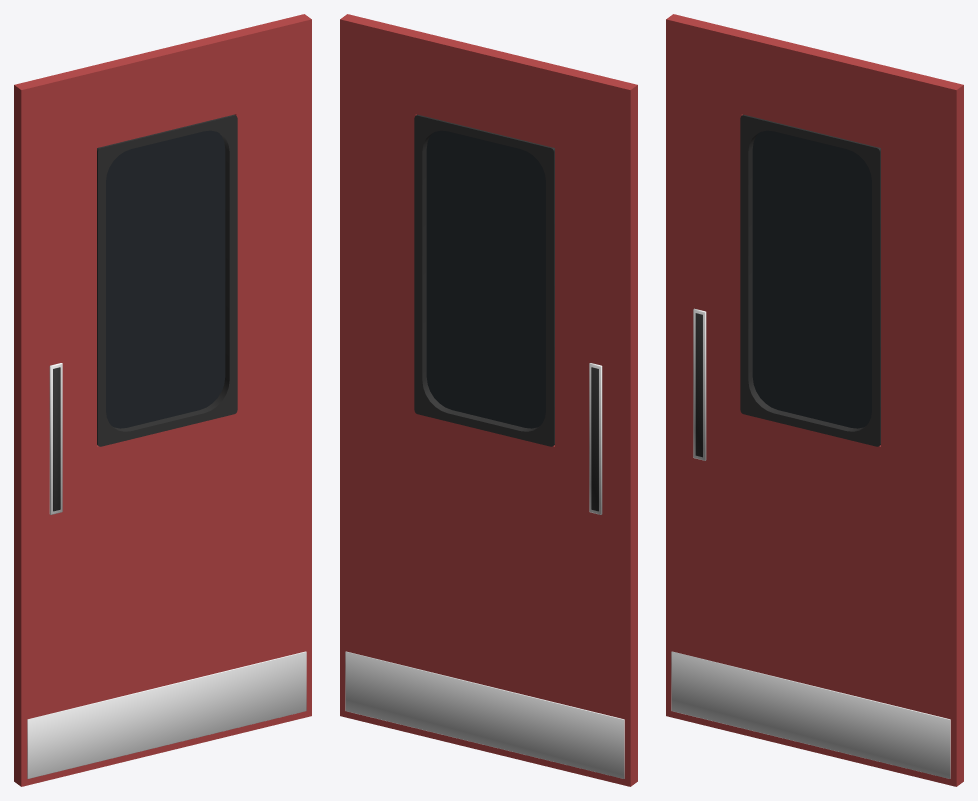
File: Train_Door.fbx
The picture shows the model from 3 angles, left to right: view 1: azimuth 30°, elevation 25°; view 2: azimuth 150°, elevation 25°; view 3: azimuth 330°, elevation 25°; orthographic projection.
Parts seen in each view (by area): view 1: Train_Door; view 2: Train_Door; view 3: Train_Door.
Boxes of the visible parts, bbox=[...] form: Train_Door: bbox=[14, 14, 311, 786]; Train_Door: bbox=[340, 14, 637, 786]; Train_Door: bbox=[666, 14, 963, 786].
Size of the model in its own units: 0.916 by 2.1 by 0.053.
